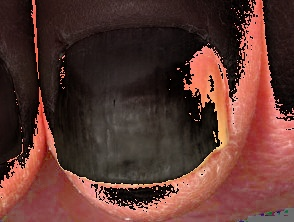Nail_psoriasis: (33, 9, 248, 206), (0, 22, 34, 189)
